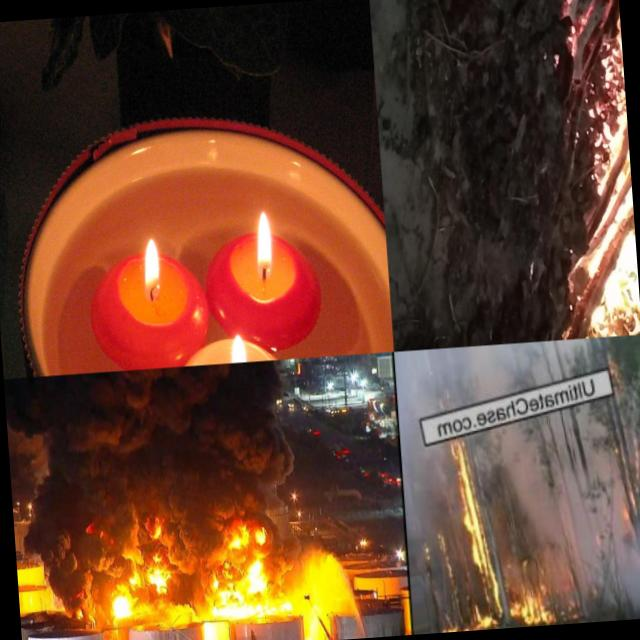fire: (427, 440, 559, 632), (211, 563, 292, 618), (248, 195, 282, 274), (136, 222, 164, 293), (222, 324, 253, 364), (300, 602, 325, 640), (147, 558, 170, 596), (199, 611, 227, 640), (107, 593, 138, 619), (224, 530, 247, 558), (251, 523, 271, 548)
smoke: (13, 370, 148, 568), (154, 358, 306, 532), (527, 437, 640, 605)
